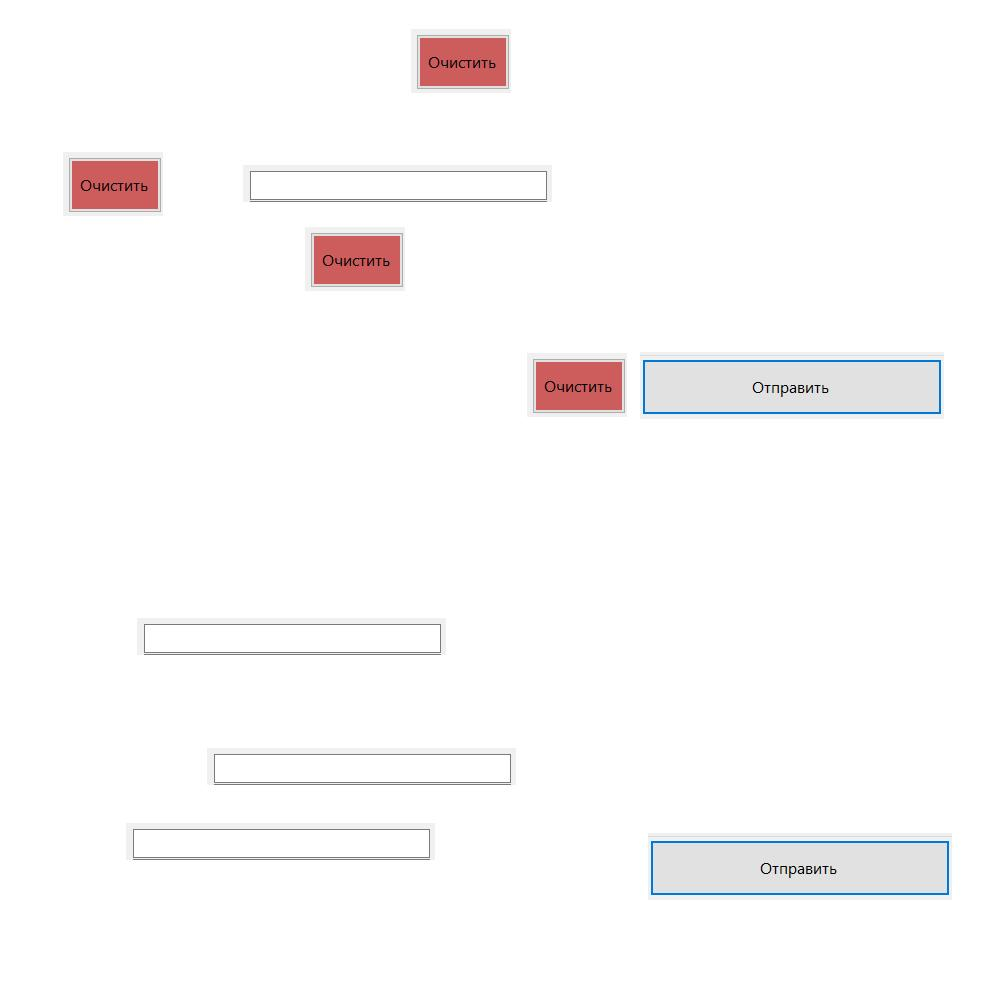Button: (648, 833, 952, 900), (640, 352, 944, 419), (527, 353, 627, 417), (305, 227, 405, 291), (63, 152, 163, 216), (411, 29, 511, 93)
EditText-: (243, 165, 552, 202), (126, 823, 435, 860), (137, 618, 446, 655), (207, 748, 516, 785)
